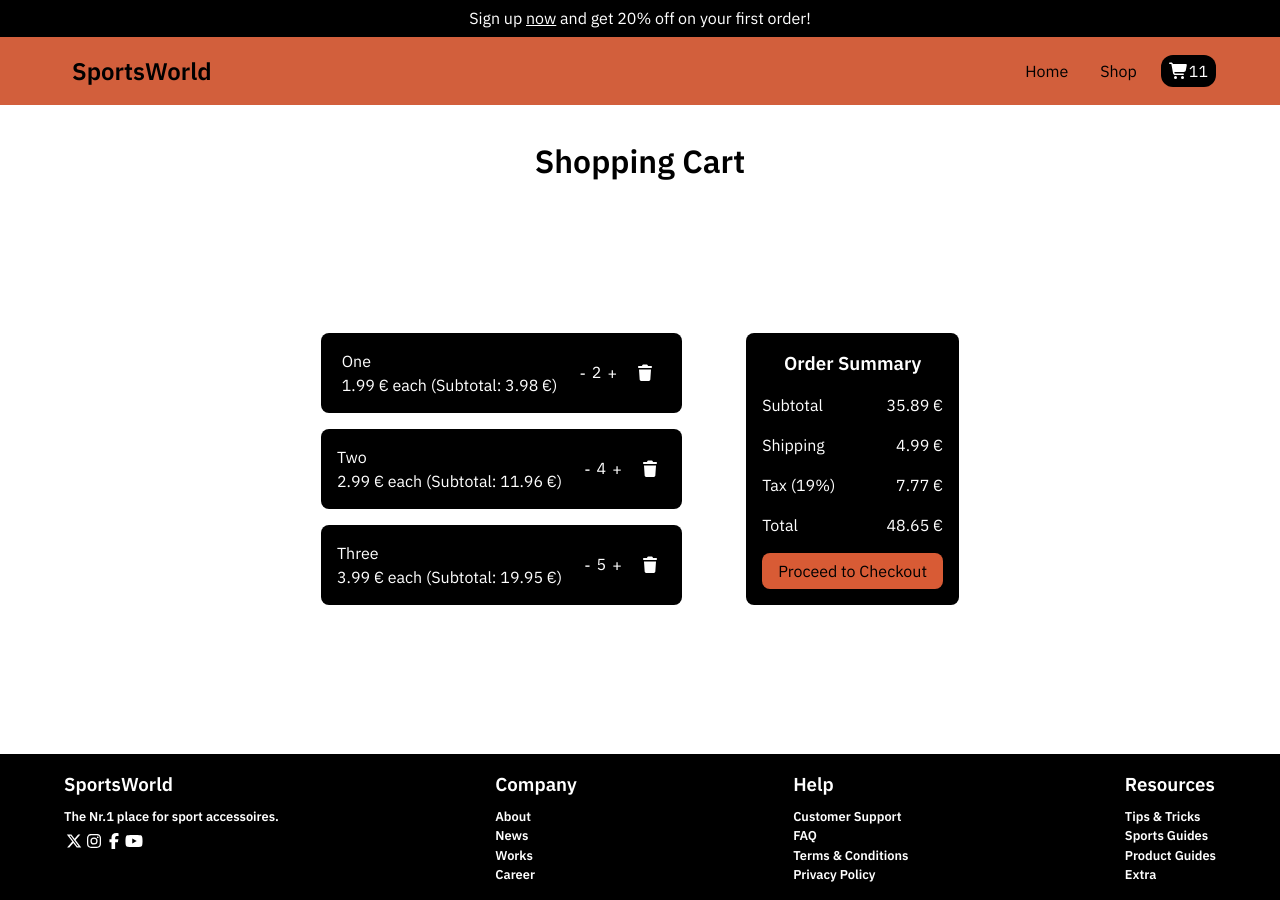
Cart component › Clicking minus when item quantity is 0 removes the item from the cart
This screenshot has width=1280, height=900.
expect the text "2" is shown: met, box x1=592 y1=360 x2=601 y2=386
Step 1. Click the button "-" in the row of "One" → point(583, 373), box x1=573 y1=360 x2=592 y2=386
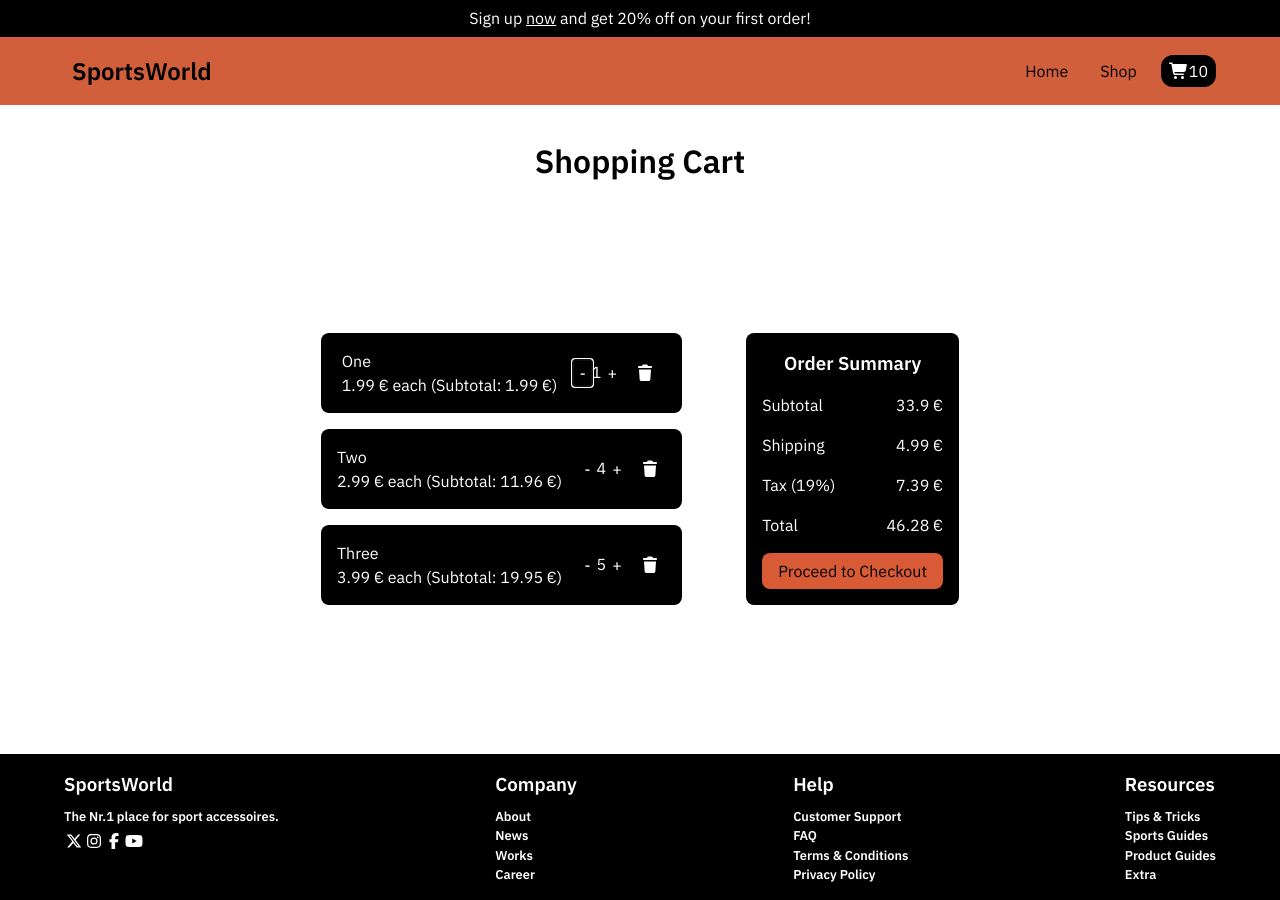
Step 2. Click the button "-" in the row of "One" → point(583, 373), box x1=573 y1=360 x2=592 y2=386
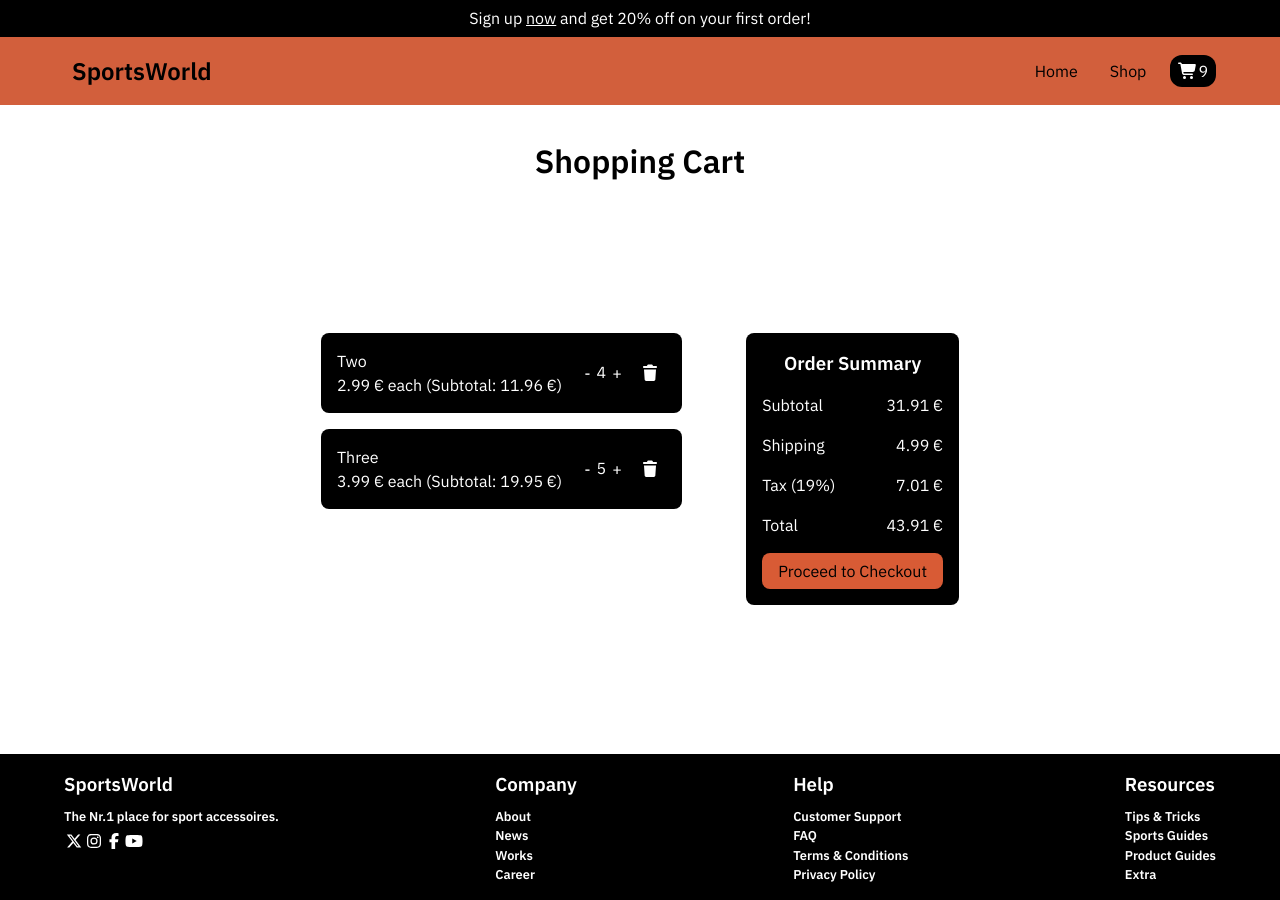
expect the number of list items is 2: met, box x1=321 y1=333 x2=682 y2=413; x1=321 y1=429 x2=682 y2=509
